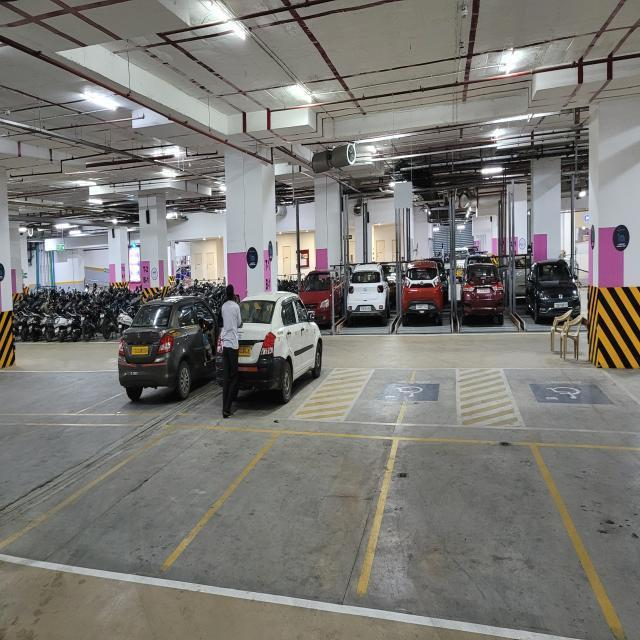space-empty: (372, 435, 598, 616), (34, 409, 249, 578), (208, 414, 394, 586)
space-occupied: (208, 306, 326, 410), (124, 308, 214, 423)
